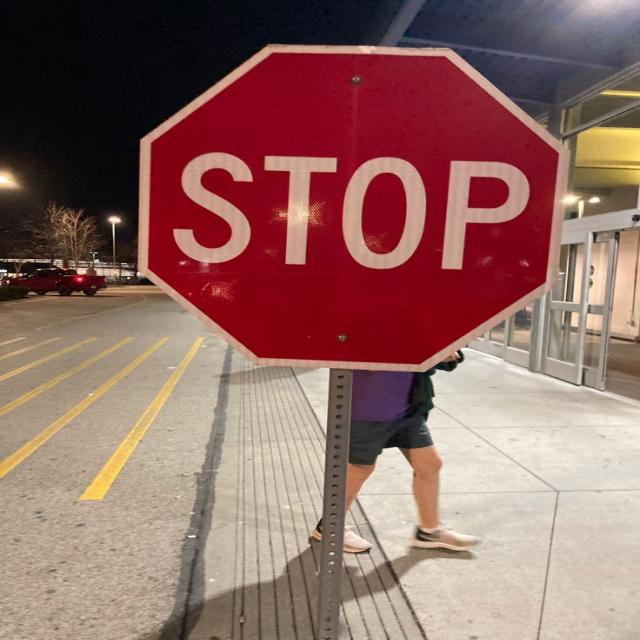stop: (144, 51, 556, 366)
